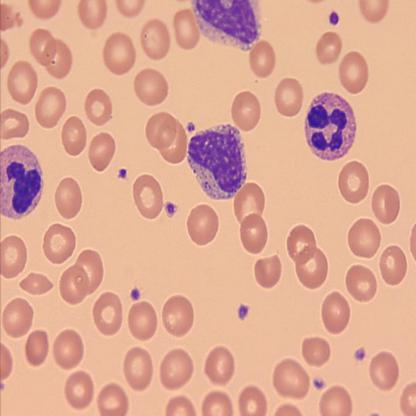Metamyelocyte: (183, 120, 251, 204)
